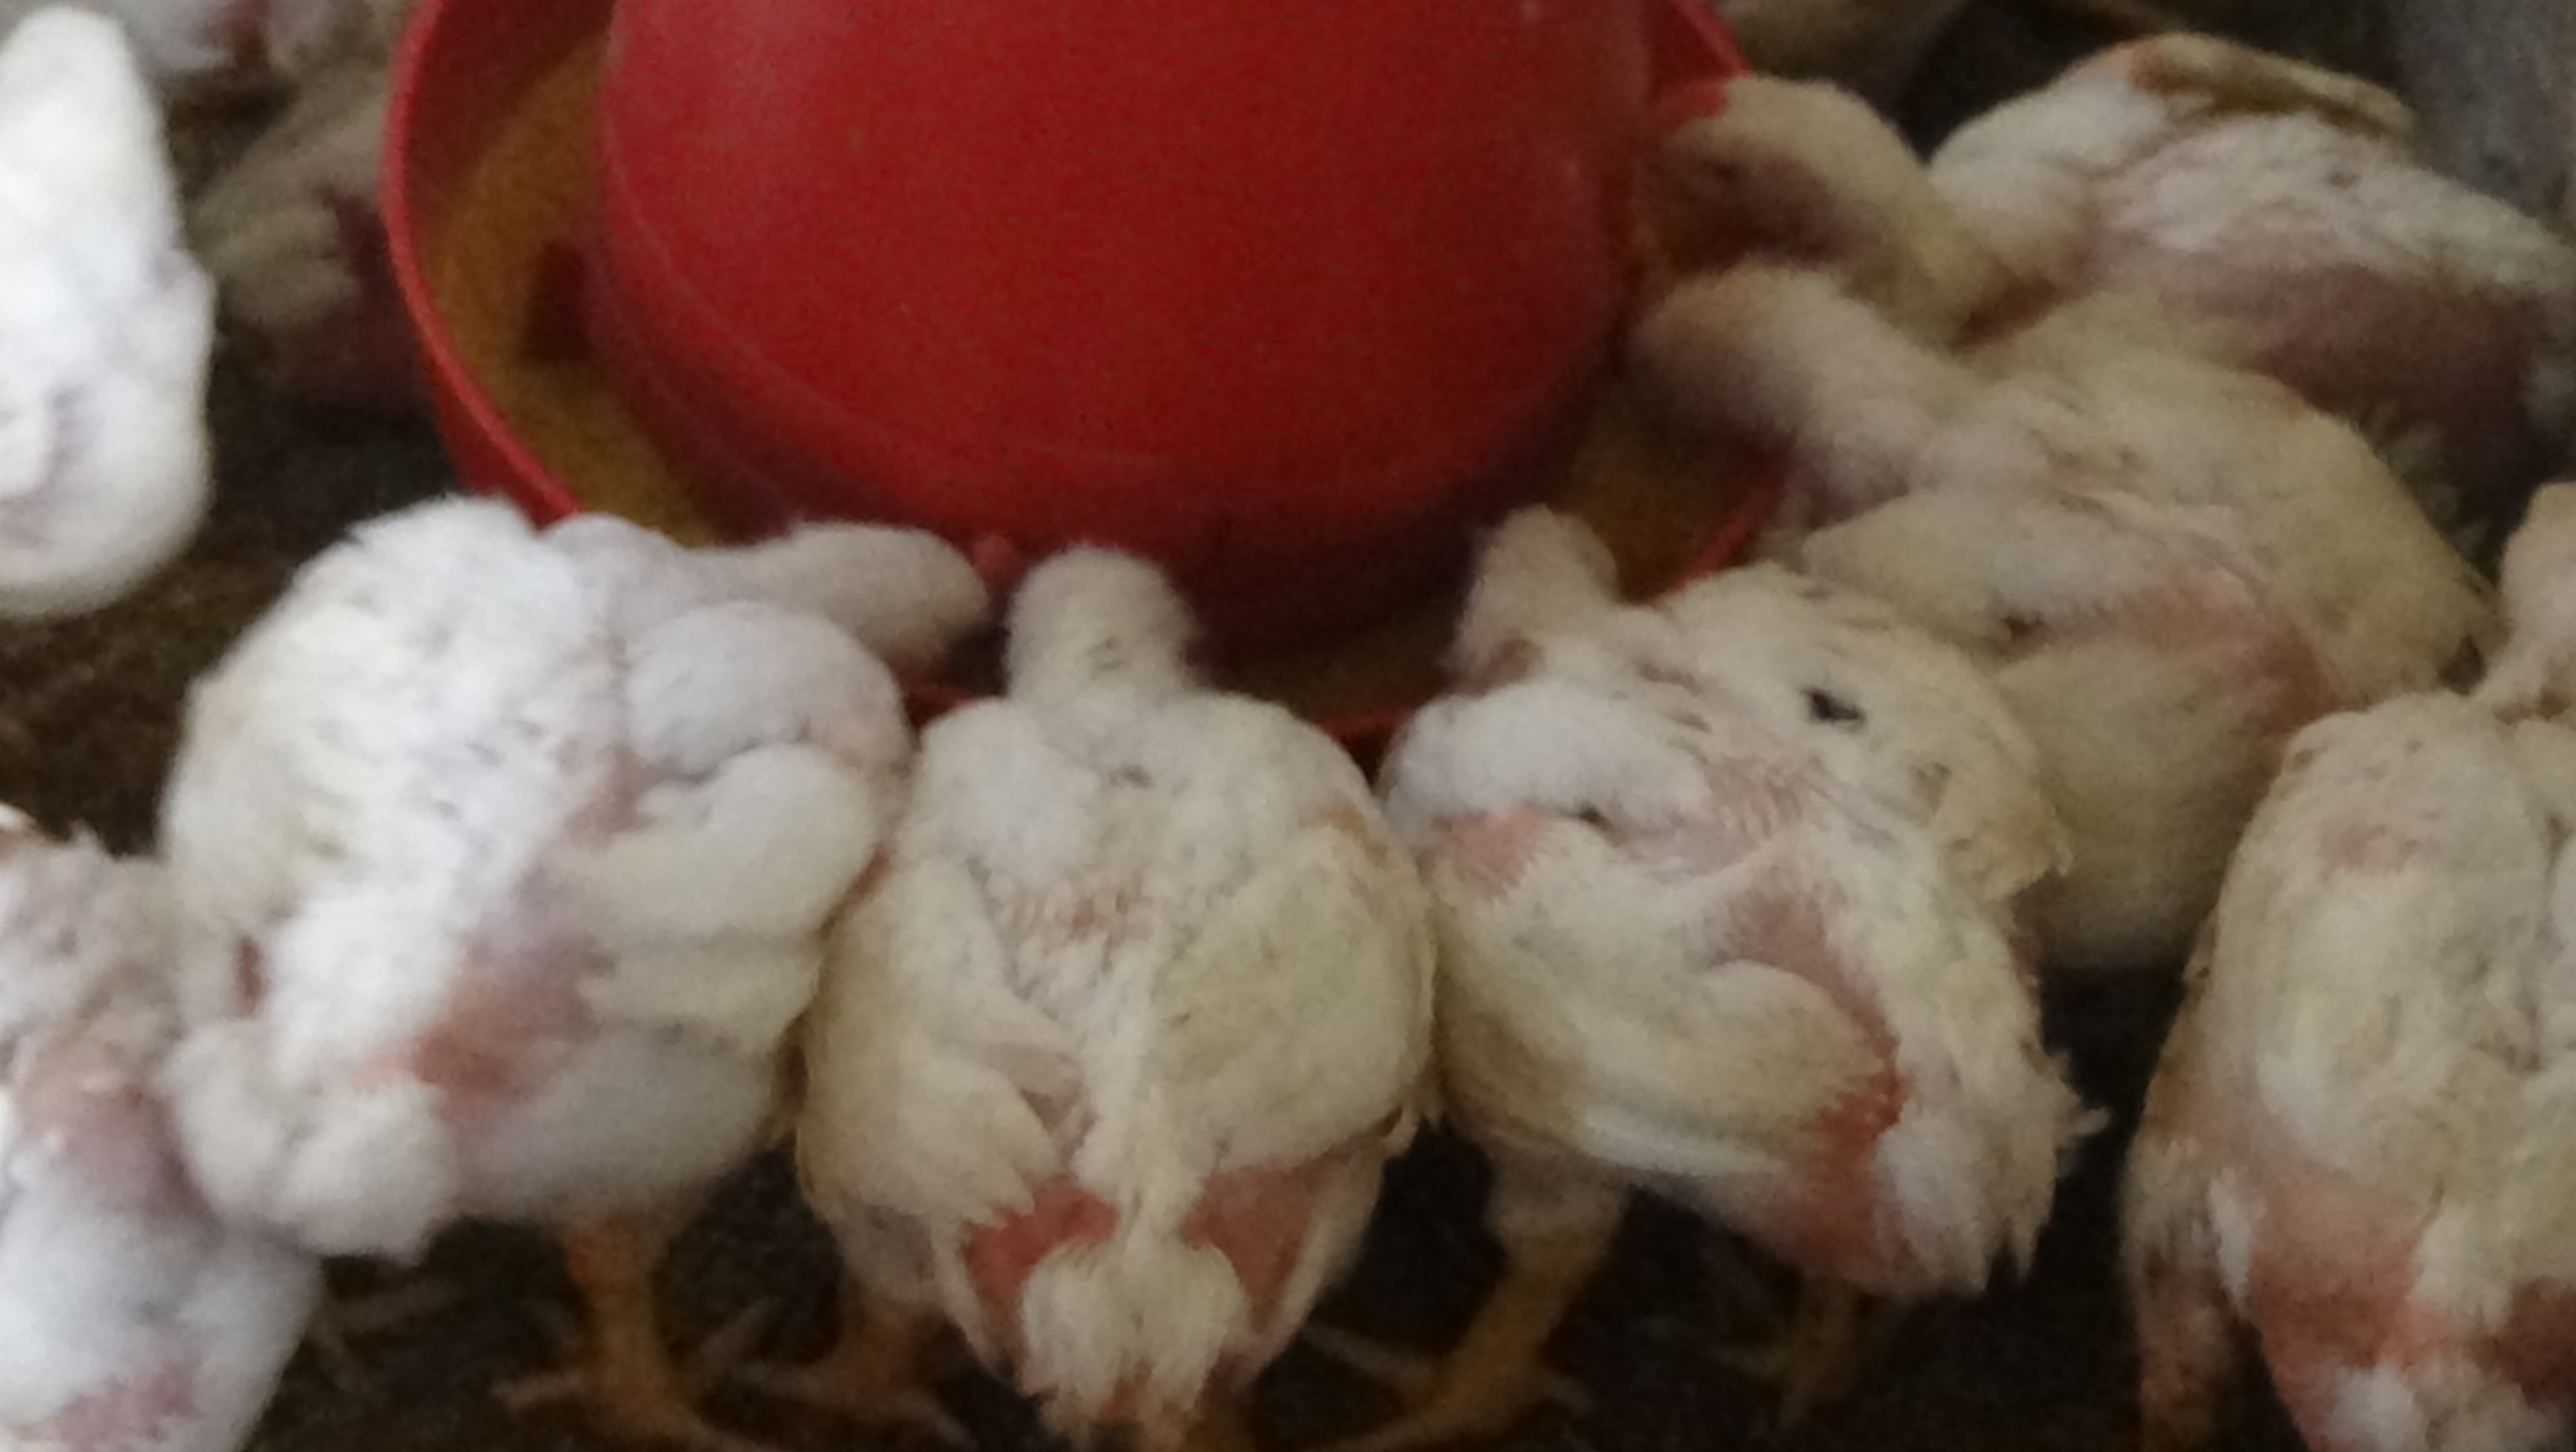Pollos: (129, 441, 1016, 1443), (1587, 195, 2512, 981), (1392, 485, 2102, 1427), (821, 496, 1435, 1440), (2121, 395, 2576, 1452), (1665, 34, 2576, 476)
